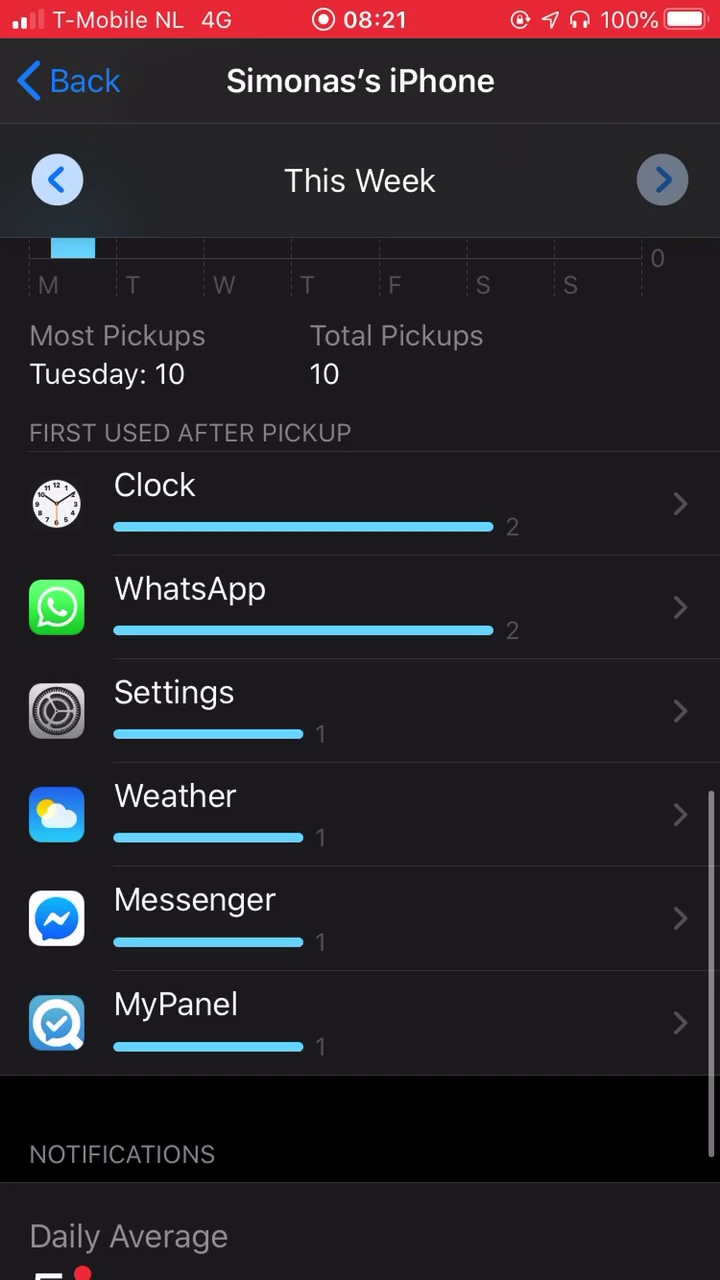pick_app: (28, 463, 540, 552), (17, 564, 509, 649), (28, 975, 318, 1067), (21, 671, 346, 753), (25, 772, 318, 860), (26, 875, 328, 958)
pick_over: (20, 297, 503, 399)
week: (264, 142, 452, 214)
